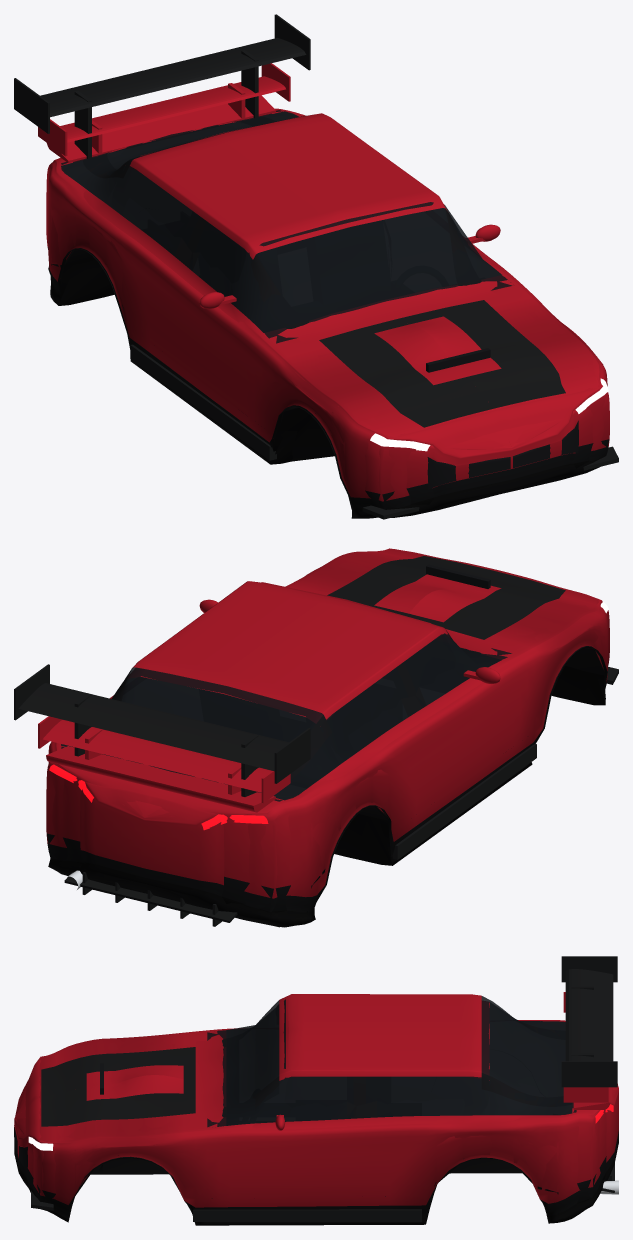
The model's file is hikari.glb.
The picture shows the model from 3 angles, top to bottom: view 1: azimuth 30°, elevation 25°; view 2: azimuth 150°, elevation 25°; view 3: azimuth 270°, elevation 25°; orthographic projection. The views are drawn at different scales.
Visible parts, largest first — view 1: body (×2), hood_3, spoiler_3, spoiler_2, hood_1, spoiler_1, bumper_1, grille, mirrors, hood_1_intake; view 2: body (×2), spoiler_3, hood_3, spoiler_2, bumper_1, spoiler_1, hood_1, taillights, hood_1_intake, mirrors; view 3: body (×2), hood_3, spoiler_3, bumper_1, hood_1, spoiler_2.
Part boxes in pixels (<box>): body (×2): <box>46,108,609,518</box>; hood_3: <box>319,300,565,427</box>; spoiler_3: <box>14,14,310,159</box>; spoiler_2: <box>38,63,290,156</box>; hood_1: <box>374,316,501,385</box>; spoiler_1: <box>47,95,275,162</box>; bumper_1: <box>130,344,618,519</box>; grille: <box>427,420,578,489</box>; mirrors: <box>199,224,500,308</box>; hood_1_intake: <box>426,348,490,372</box>; body (×2): <box>46,548,609,927</box>; spoiler_3: <box>14,664,310,796</box>; hood_3: <box>327,556,565,639</box>; spoiler_2: <box>38,716,290,803</box>; bumper_1: <box>64,666,618,926</box>; spoiler_1: <box>46,746,275,812</box>; hood_1: <box>374,574,501,622</box>; taillights: <box>49,764,268,829</box>; hood_1_intake: <box>426,564,490,588</box>; mirrors: <box>199,599,500,683</box>; body (×2): <box>14,994,618,1225</box>; hood_3: <box>41,1047,195,1126</box>; spoiler_3: <box>561,956,617,1087</box>; bumper_1: <box>31,1163,614,1221</box>; hood_1: <box>86,1065,183,1100</box>; spoiler_2: <box>563,992,608,1102</box>.
Size of the model in its own units: 2.04 by 1.3 by 4.3.
